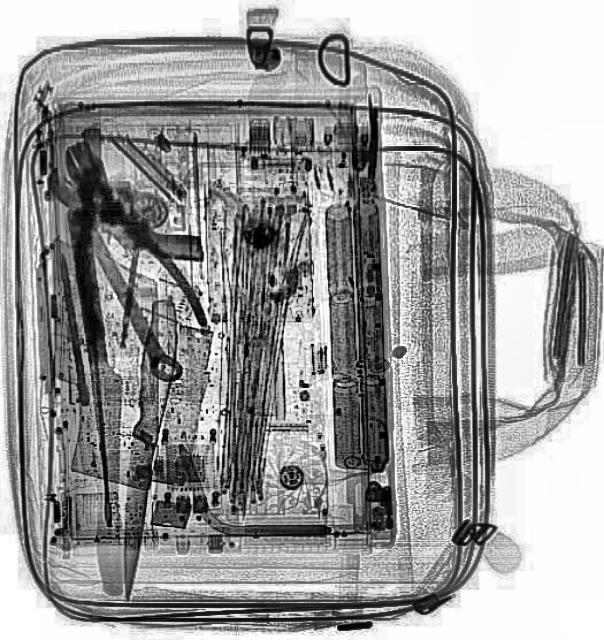Gun: (55, 113, 209, 297)
Knife: (108, 298, 184, 602), (66, 212, 134, 520)
Wrench: (38, 158, 186, 390)
